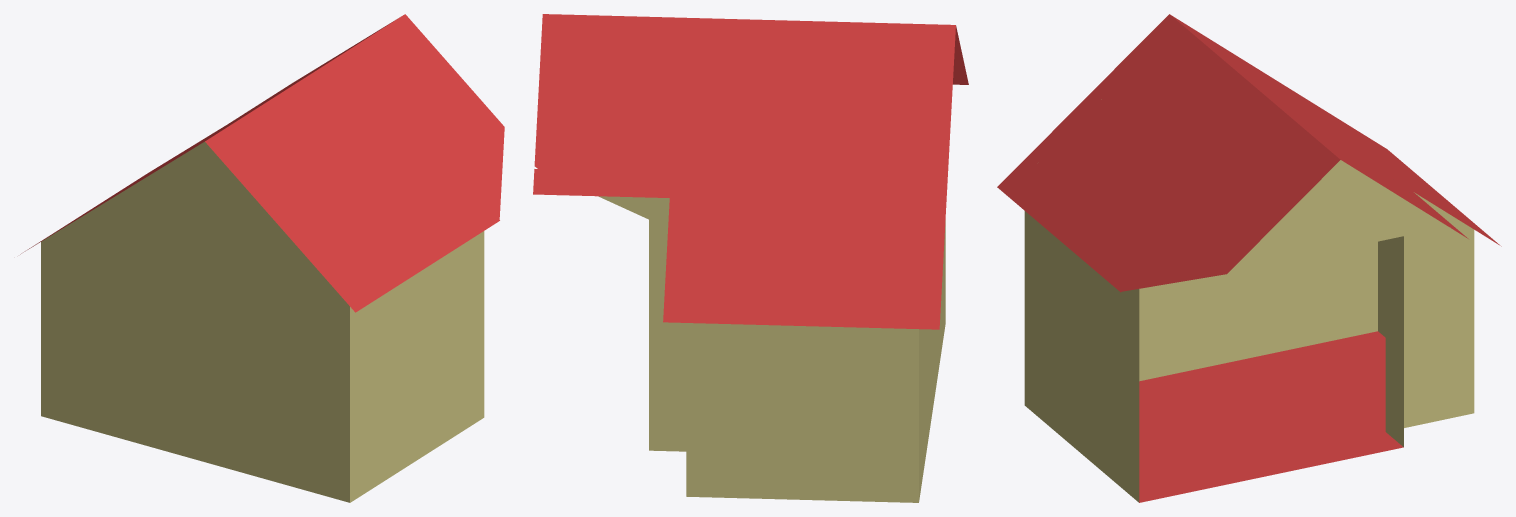
3 views of the same model, side by side, from view 1: azimuth 30°, elevation 25°; view 2: azimuth 150°, elevation 25°; view 3: azimuth 270°, elevation 25° (orthographic). The views are drawn at different scales.
Size of the model in its own units: 18.64 by 18.46 by 14.18.
